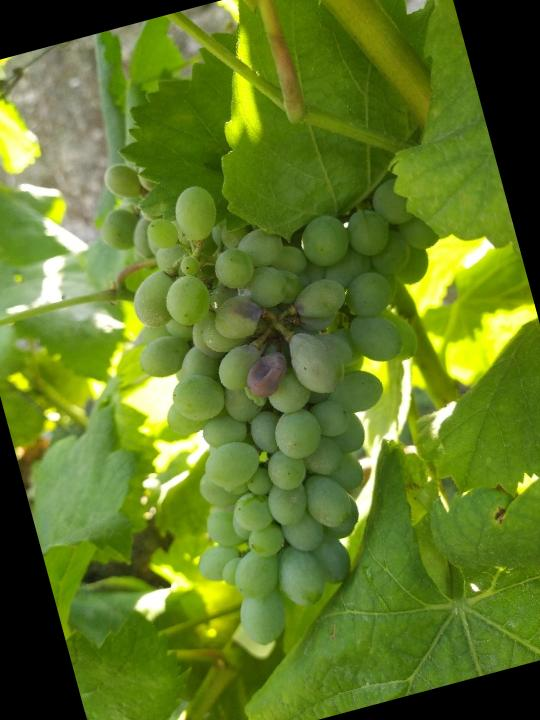grape: (88, 92, 528, 658)
